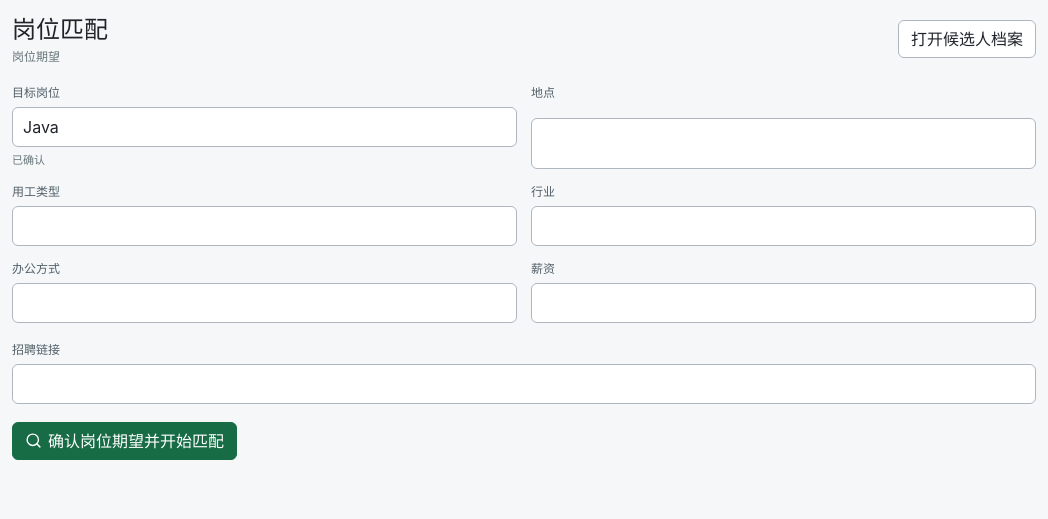
JobMatchStartPanel › explains when a supported source has an unrecognized page structure
Check: the field showing "Java" is shown, box [12,107,517,147]
Type "https://app.mokahr.com/campus_apply/acme-campus/39595#/jobs" into the field labelled "招聘链接". click: {"x": 524, "y": 384}
box: [12,364,1036,404]
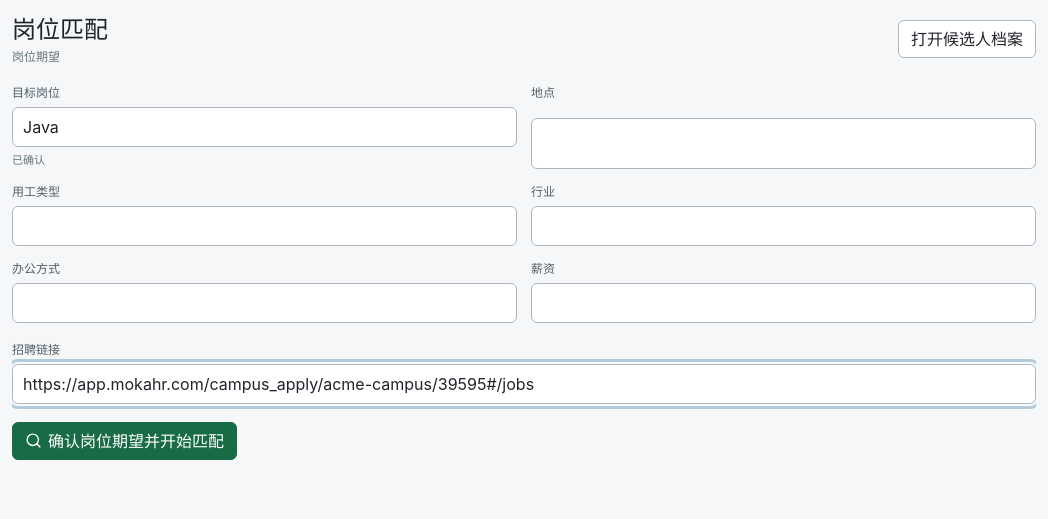
Click the button "确认岗位期望并开始匹配". click: {"x": 124, "y": 440}
box: [12,422,237,460]
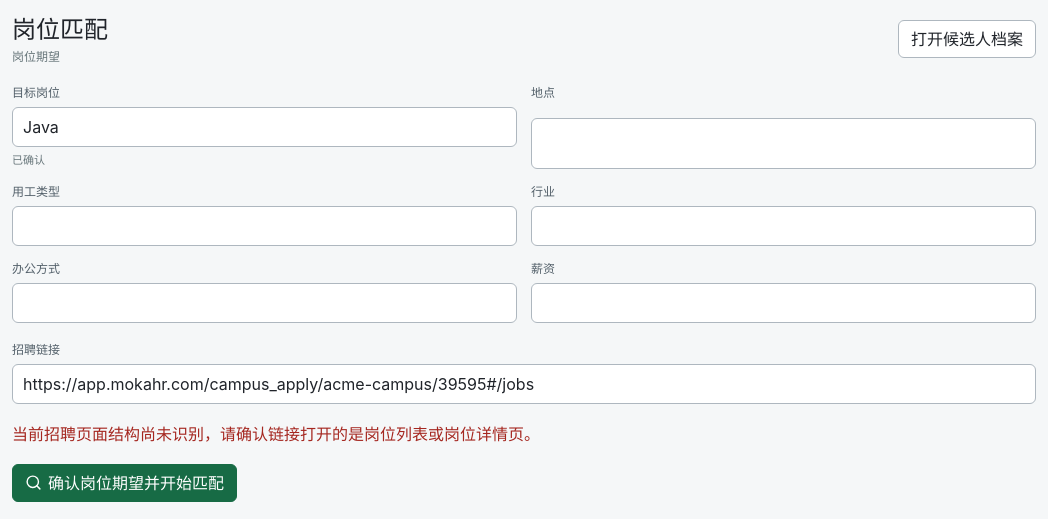
Check: the message does not show "当前仅支持 Moka/Mokahr", box [12,424,540,444]
Check: the message reads "当前招聘页面结构尚未识别，请确认链接打开的是岗位列表或岗位详情页。", box [12,424,540,444]
